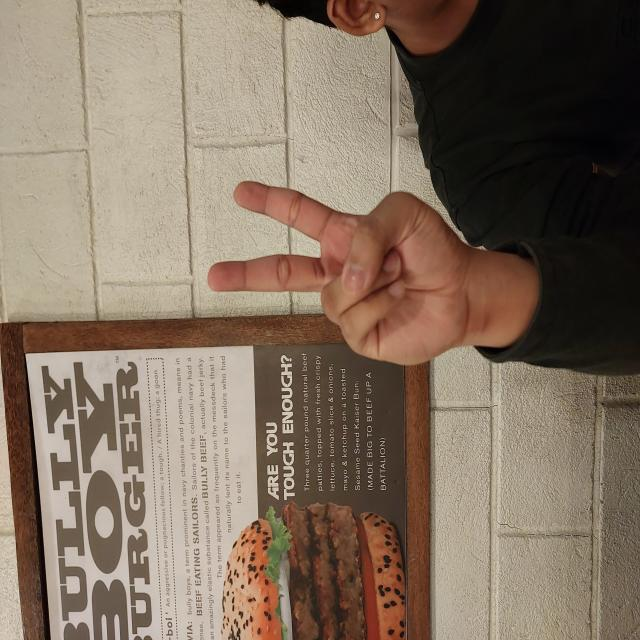V: (273, 206, 460, 470)
